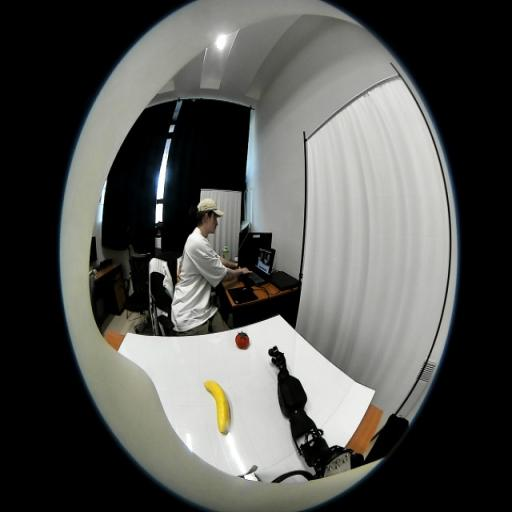Banana: (204, 380, 230, 434)
RightHand: (278, 359, 286, 369)
Tomato: (235, 332, 249, 349)
